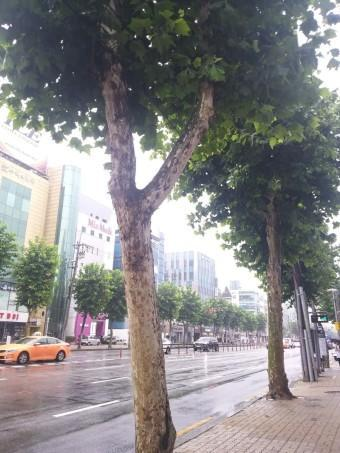tree: (1, 1, 325, 451), (169, 54, 337, 398)
